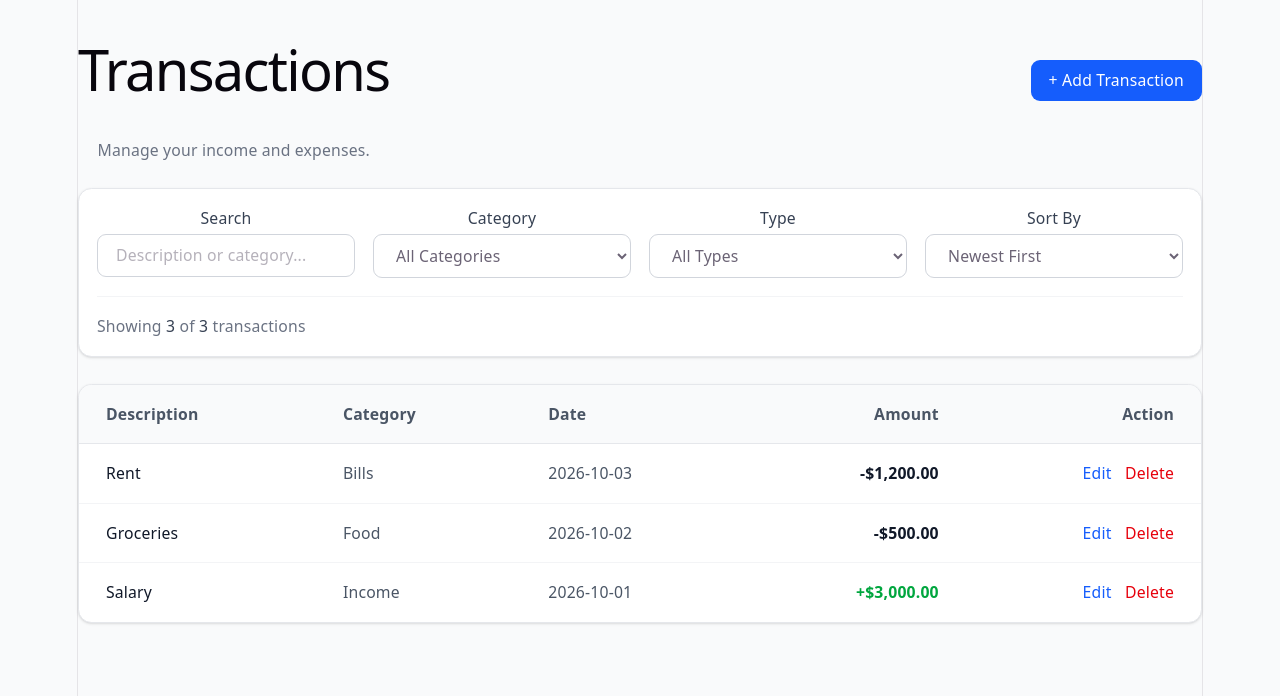
Test: TransactionsPage › opens the add transaction form
This screenshot has width=1280, height=696.
What coordinates should you click on to do the following:
click the button "+ Add Transaction"
I would click on:
 (1116, 81)
Its box is [1031, 60, 1202, 101].
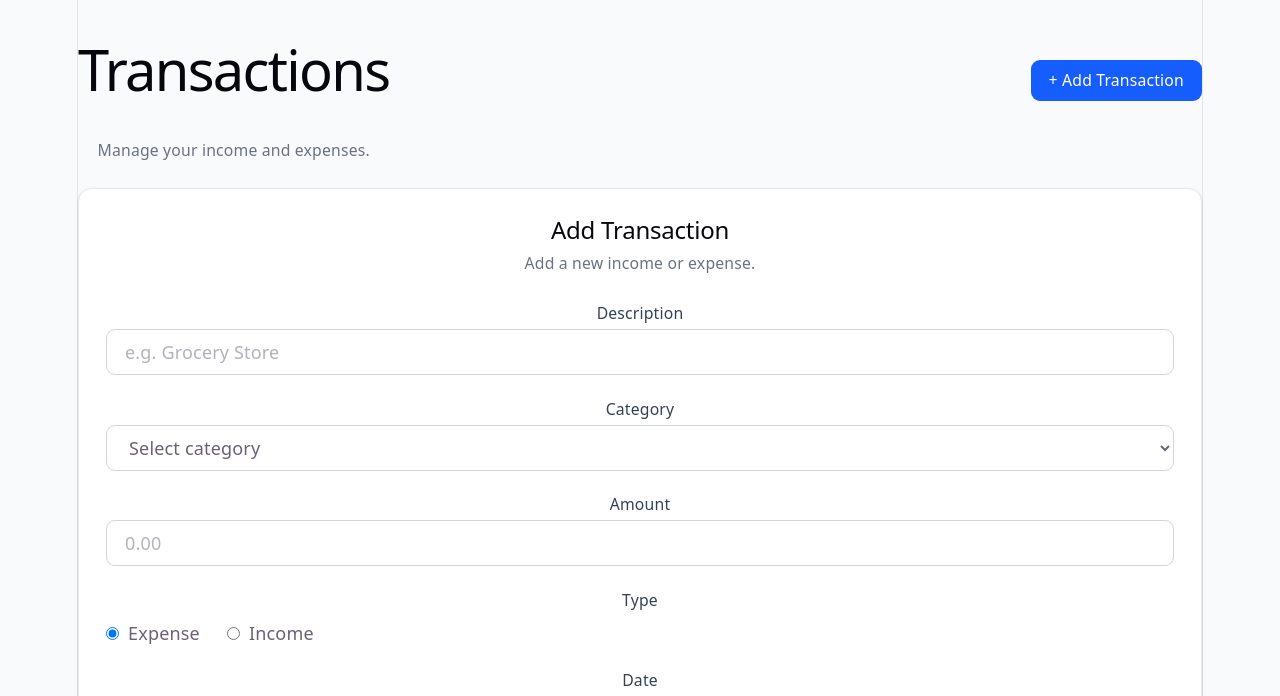
Now the heading "Add Transaction" is shown, box [551, 213, 729, 246]
